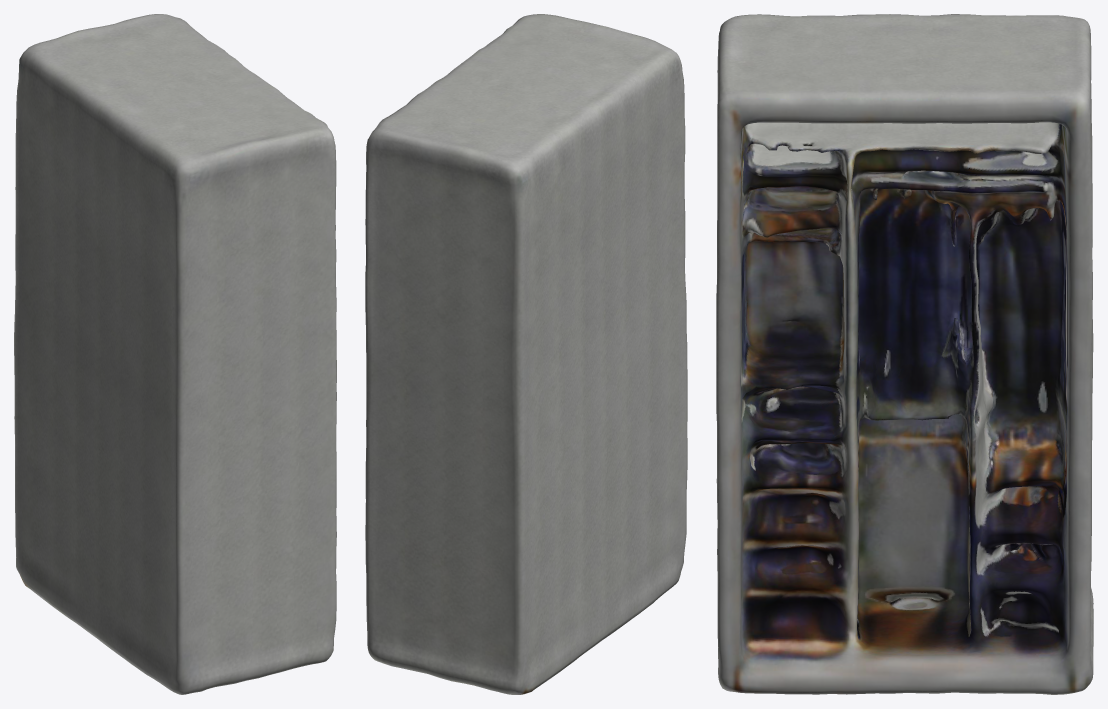
Rendered from closet.fbx.
3 renders of one model, left to right at view 1: azimuth 30°, elevation 25°; view 2: azimuth 150°, elevation 25°; view 3: azimuth 270°, elevation 25°, orthographic. The views are drawn at different scales.
Visible parts, largest first — view 1: mesh; view 2: mesh; view 3: mesh.
Boxes of the visible parts, x1,y1,x2,y2 form: mesh: [14, 14, 336, 694]; mesh: [365, 14, 687, 694]; mesh: [716, 14, 1093, 694].
Size of the model in its own units: 31.07 by 99.88 by 56.55.
